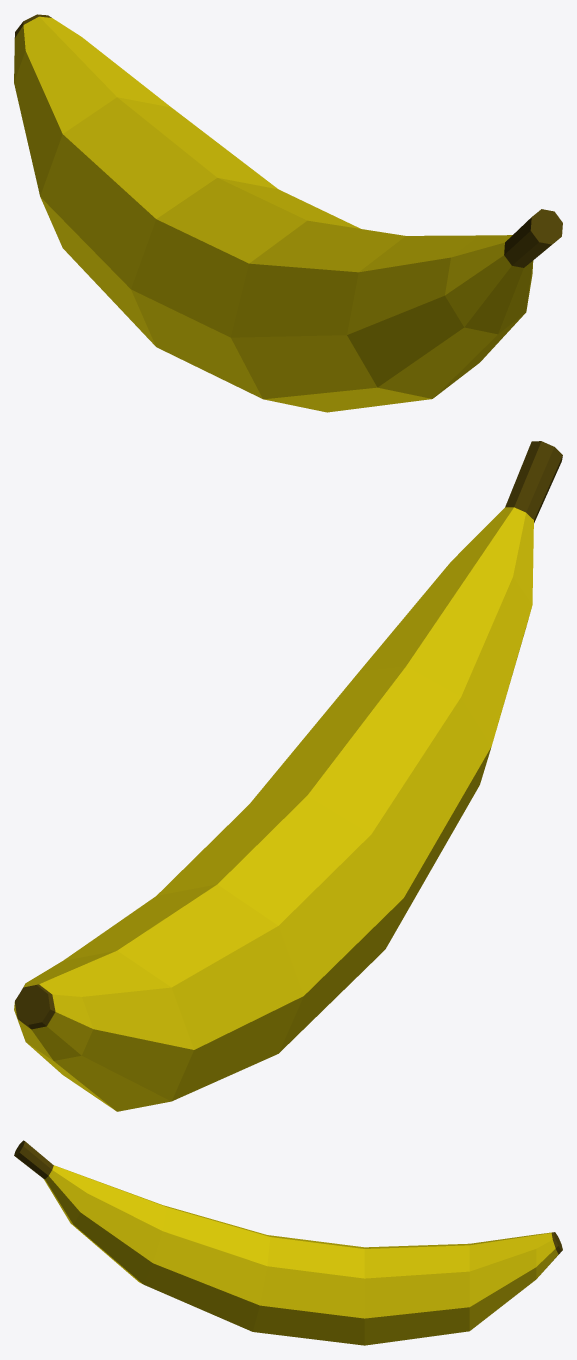
File: banana.fbx
3 views of the same model, one above another, from view 1: azimuth 30°, elevation 25°; view 2: azimuth 150°, elevation 25°; view 3: azimuth 270°, elevation 25° (orthographic). The views are drawn at different scales.
Parts seen in each view (by area): view 1: banana; view 2: banana; view 3: banana.
Part boxes in pixels (x1,y1,x2,y2): banana: (14, 14, 562, 412); banana: (14, 441, 562, 1111); banana: (14, 1140, 562, 1345).
Size of the model in its own units: 1.06 by 2.26 by 5.54.
